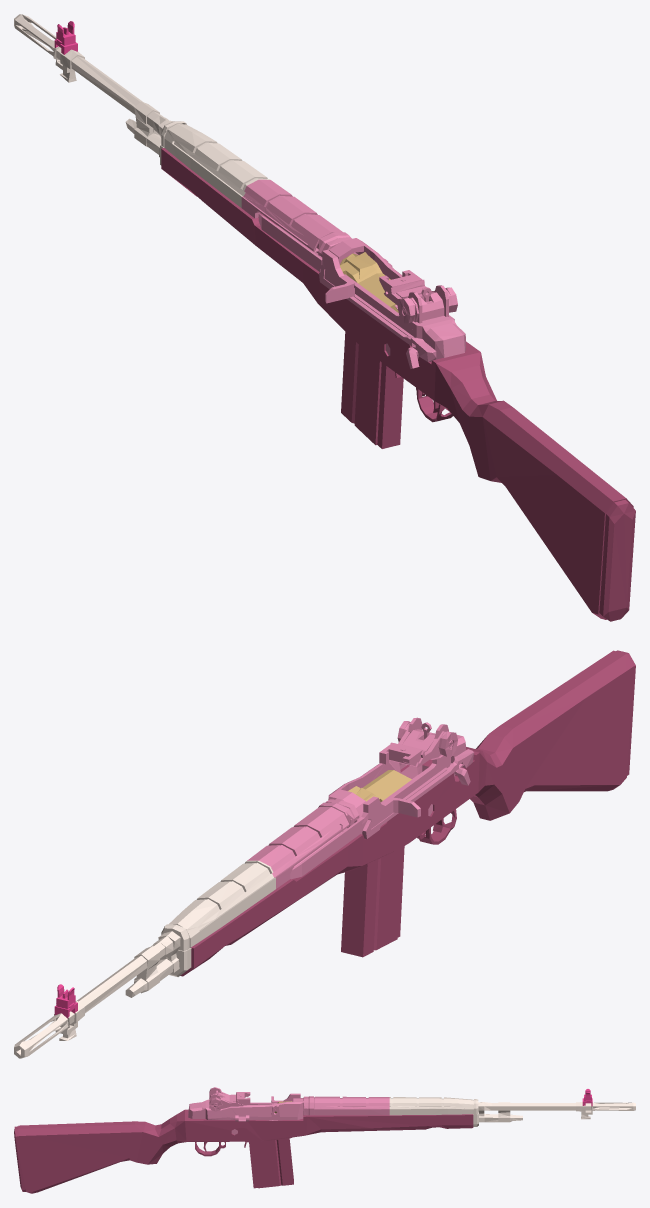
The model's file is BattleRifle_M14.obj.
3 renders of one model, top to bottom at view 1: azimuth 30°, elevation 25°; view 2: azimuth 150°, elevation 25°; view 3: azimuth 270°, elevation 25°, orthographic. The views are drawn at different scales.
Visible parts, largest first — view 1: Mag, Body, Panel, Bolt; view 2: Mag, Body, Panel, Bolt, Grip, Accent; view 3: Mag, Body, Panel, Grip.
Part boxes in pixels (x1=…): Mag: x1=161, y1=148, x2=635, y2=621; Body: x1=241, y1=179, x2=465, y2=368; Panel: x1=14, y1=14, x2=270, y2=207; Bolt: x1=340, y1=252, x2=398, y2=312; Mag: x1=180, y1=650, x2=635, y2=976; Body: x1=247, y1=717, x2=473, y2=888; Panel: x1=14, y1=860, x2=275, y2=1058; Bolt: x1=348, y1=770, x2=411, y2=801; Grip: x1=417, y1=809, x2=456, y2=844; Accent: x1=54, y1=984, x2=77, y2=1018; Mag: x1=14, y1=1109, x2=473, y2=1193; Body: x1=188, y1=1087, x2=389, y2=1134; Panel: x1=389, y1=1097, x2=635, y2=1126; Grip: x1=195, y1=1142, x2=225, y2=1156.
Size of the model in its own units: 0.2621 by 0.669 by 3.7.
